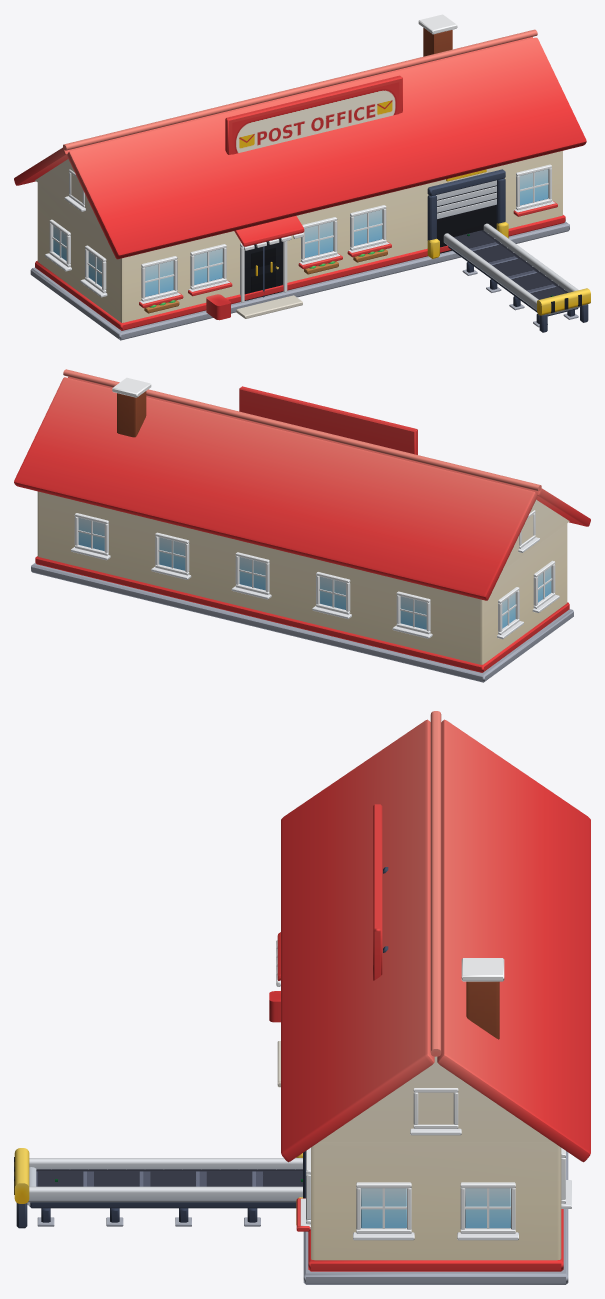
The model's file is post_office.glb.
The picture shows the model from 3 angles, top to bottom: view 1: azimuth 30°, elevation 25°; view 2: azimuth 150°, elevation 25°; view 3: azimuth 270°, elevation 25°; orthographic projection. The views are drawn at different scales.
Parts seen in each view (by area): view 1: PostOffice, ConveyorFrame, ConveyorBelt; view 2: PostOffice; view 3: PostOffice, ConveyorFrame, ConveyorBelt.
Boxes of the visible parts, box(x1,y1,x2,y2) form: PostOffice: box(14, 14, 586, 340); ConveyorFrame: box(443, 223, 590, 332); ConveyorBelt: box(454, 230, 568, 299); PostOffice: box(14, 369, 590, 682); PostOffice: box(269, 711, 590, 1284); ConveyorFrame: box(14, 1148, 302, 1228); ConveyorBelt: box(36, 1169, 302, 1186).
Bounding box in the file's own units: 76.7 × 28.35 × 55.33.
Materials: 2 (2 with a texture image).
